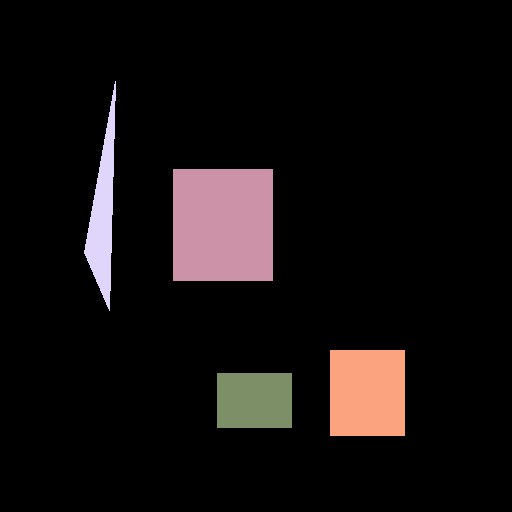rectangle: (173, 169, 272, 280), (330, 350, 404, 435), (217, 373, 291, 427)
triangle: (84, 81, 115, 310)
